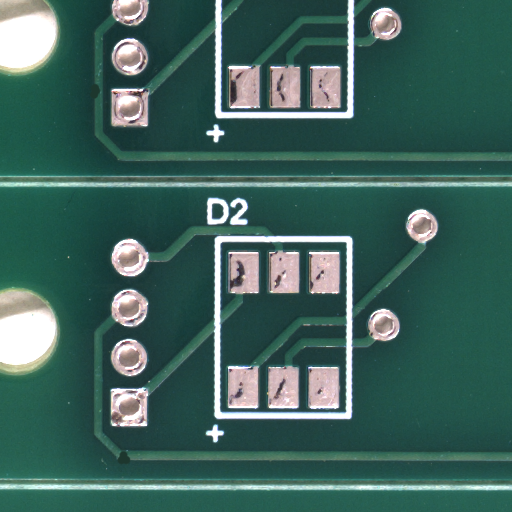Mouse_bite: (123, 457, 136, 470), (96, 92, 104, 110)
